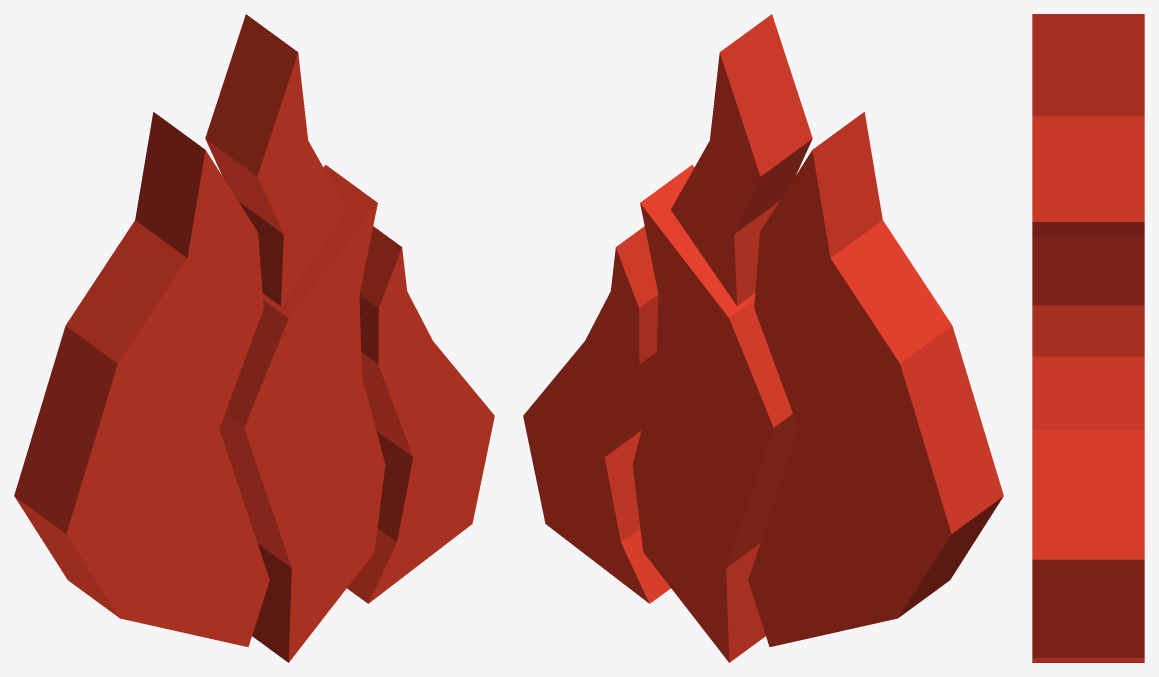
The model's file is Icon_Fire_03.fbx.
3 renders of one model, left to right at view 1: azimuth 30°, elevation 25°; view 2: azimuth 150°, elevation 25°; view 3: azimuth 270°, elevation 25°, orthographic. The views are drawn at different scales.
Parts seen in each view (by area): view 1: Icon_Fire_03; view 2: Icon_Fire_03; view 3: Icon_Fire_03.
Boxes of the visible parts, left/top/right/bottom form: Icon_Fire_03: left=14, top=14, right=494, bottom=662; Icon_Fire_03: left=523, top=14, right=1003, bottom=662; Icon_Fire_03: left=1032, top=14, right=1144, bottom=662.
Size of the model in its own units: 57.07 by 77.43 by 12.06.
